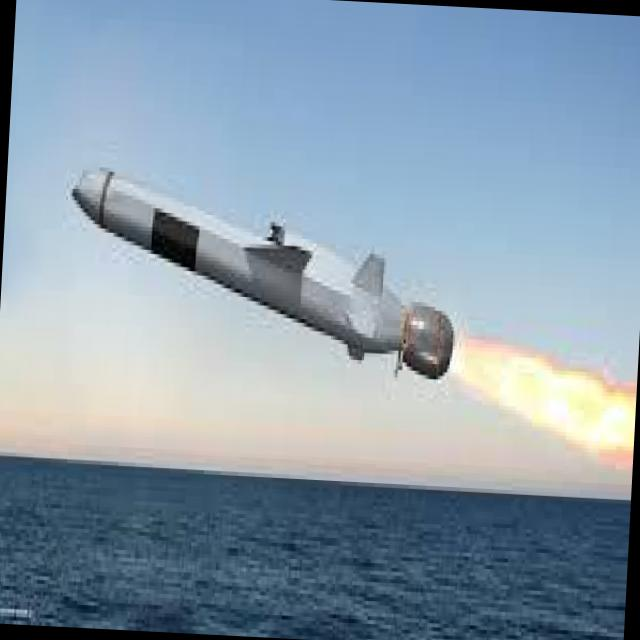rocket: (60, 166, 464, 396)
